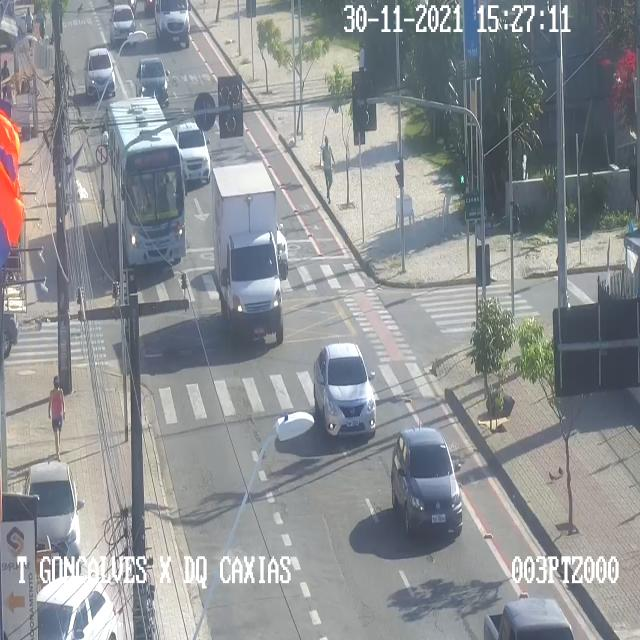Bus: (105, 95, 187, 265)
Car: (390, 427, 462, 545), (313, 338, 379, 442), (23, 463, 83, 569), (38, 573, 119, 639), (176, 118, 212, 190), (153, 3, 193, 55), (84, 45, 116, 103), (137, 59, 169, 103), (109, 6, 135, 44)
Truck: (210, 156, 284, 346)
